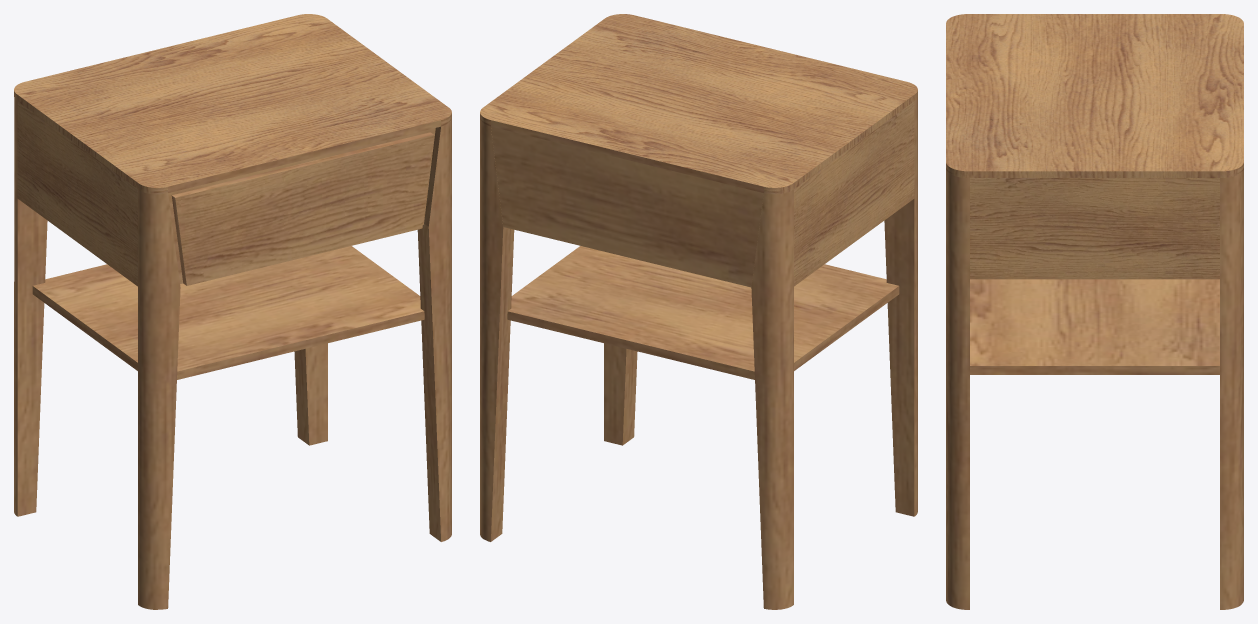
The model's file is bedside-v5.glb.
The picture shows the model from 3 angles, left to right: view 1: azimuth 30°, elevation 25°; view 2: azimuth 150°, elevation 25°; view 3: azimuth 270°, elevation 25°; orthographic projection. The views are drawn at different scales.
Size of the model in its own units: 0.5 by 0.65 by 0.4.
Materials: 4 (4 with a texture image).
